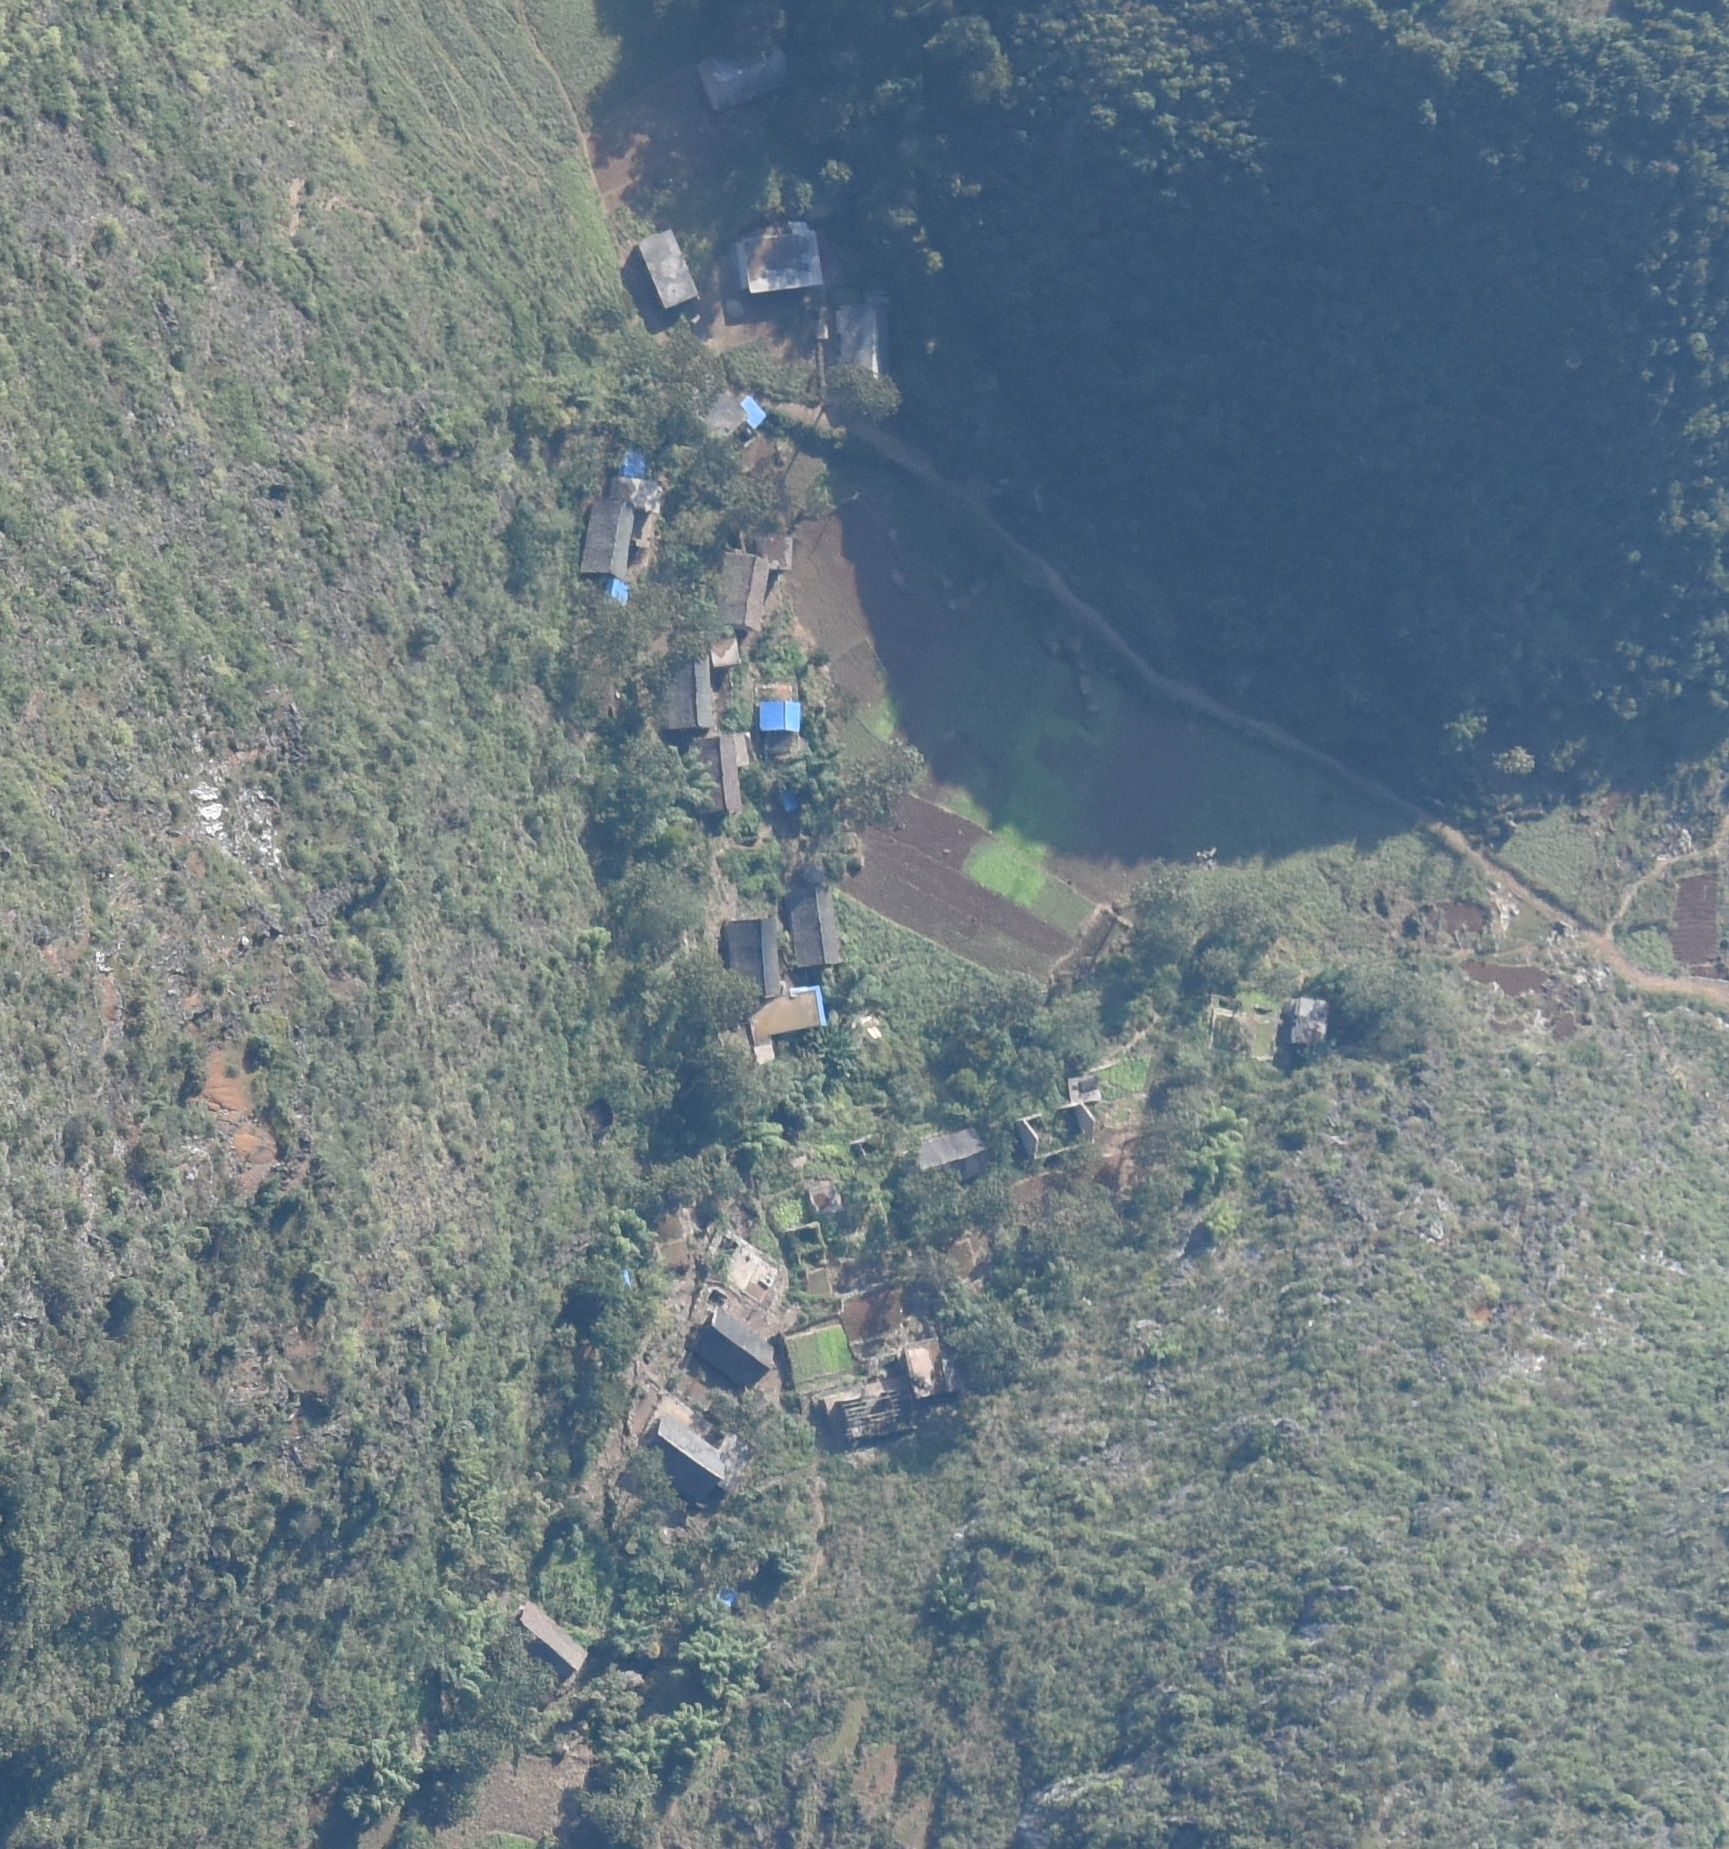building: (825, 289, 895, 401), (637, 1418, 725, 1506), (689, 1308, 773, 1391), (695, 36, 786, 107), (697, 385, 773, 466), (736, 223, 825, 291), (510, 1605, 587, 1685), (635, 229, 700, 305), (913, 1128, 991, 1189), (694, 731, 749, 817), (726, 920, 778, 1001), (663, 647, 712, 730), (790, 890, 843, 963), (718, 548, 765, 630), (747, 989, 832, 1033), (900, 1340, 955, 1402), (1285, 994, 1328, 1051), (756, 531, 795, 569), (710, 626, 739, 666), (1064, 1076, 1102, 1102)
prefabricated-house: (759, 699, 803, 733), (611, 444, 645, 476), (600, 577, 630, 606), (738, 393, 764, 427)
